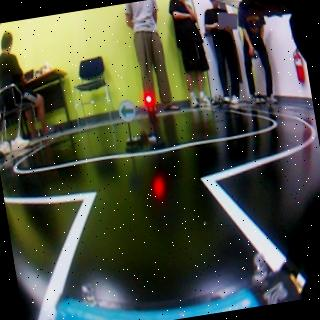left: (119, 101, 136, 123)
red: (145, 91, 162, 151)
